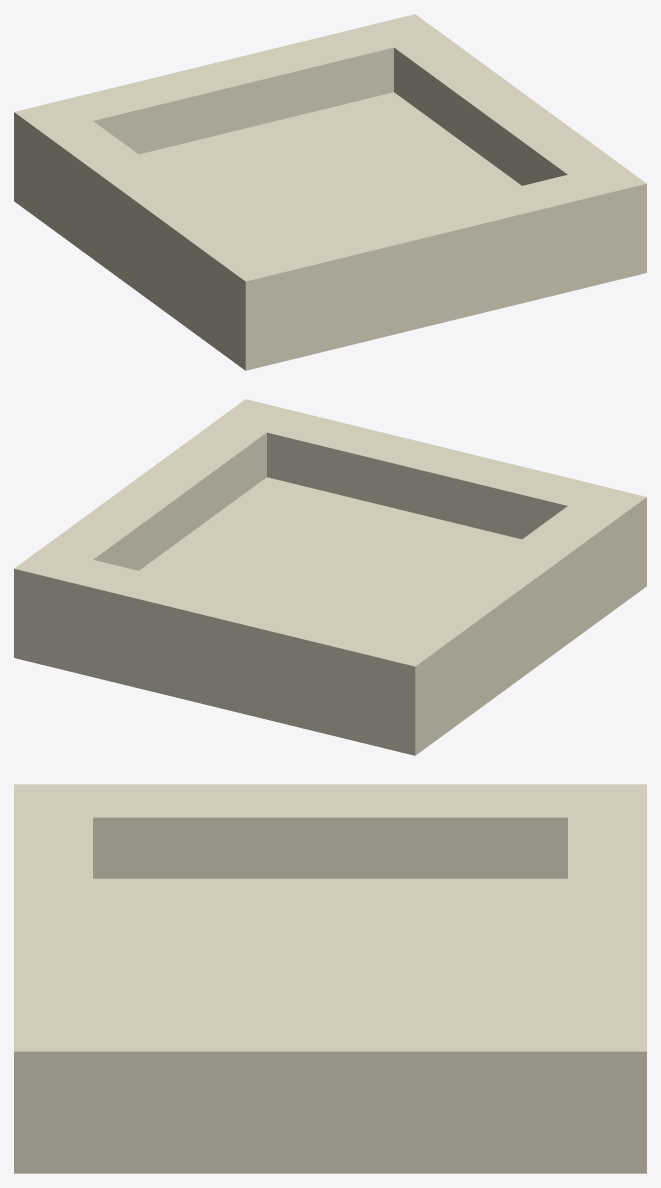
The model's file is building_010.fbx.
The picture shows the model from 3 angles, top to bottom: view 1: azimuth 30°, elevation 25°; view 2: azimuth 150°, elevation 25°; view 3: azimuth 270°, elevation 25°; orthographic projection. The views are drawn at different scales.
Parts seen in each view (by area): view 1: building_010; view 2: building_010; view 3: building_010.
Boxes of the visible parts, <box> form: building_010: <box>14,14,646,370</box>; building_010: <box>14,399,646,755</box>; building_010: <box>14,784,646,1173</box>.
Bounding box in the file's own units: 10 × 2.12 × 10.
